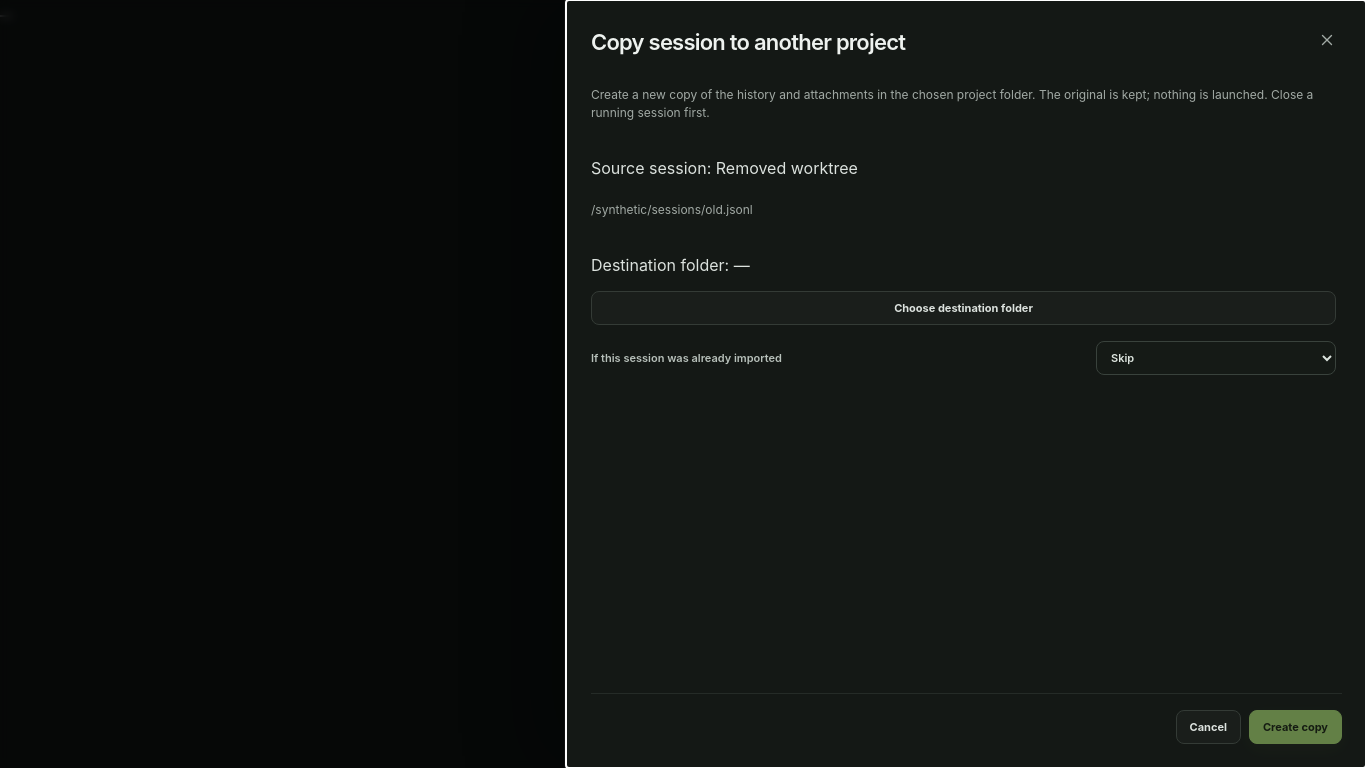
Scenario: Session copy confirmation › accepts explicit null warnings and extra fields without defaulting the snapshot
Click the button "Choose destination folder".
click(964, 308)  # box [591,291,1336,325]
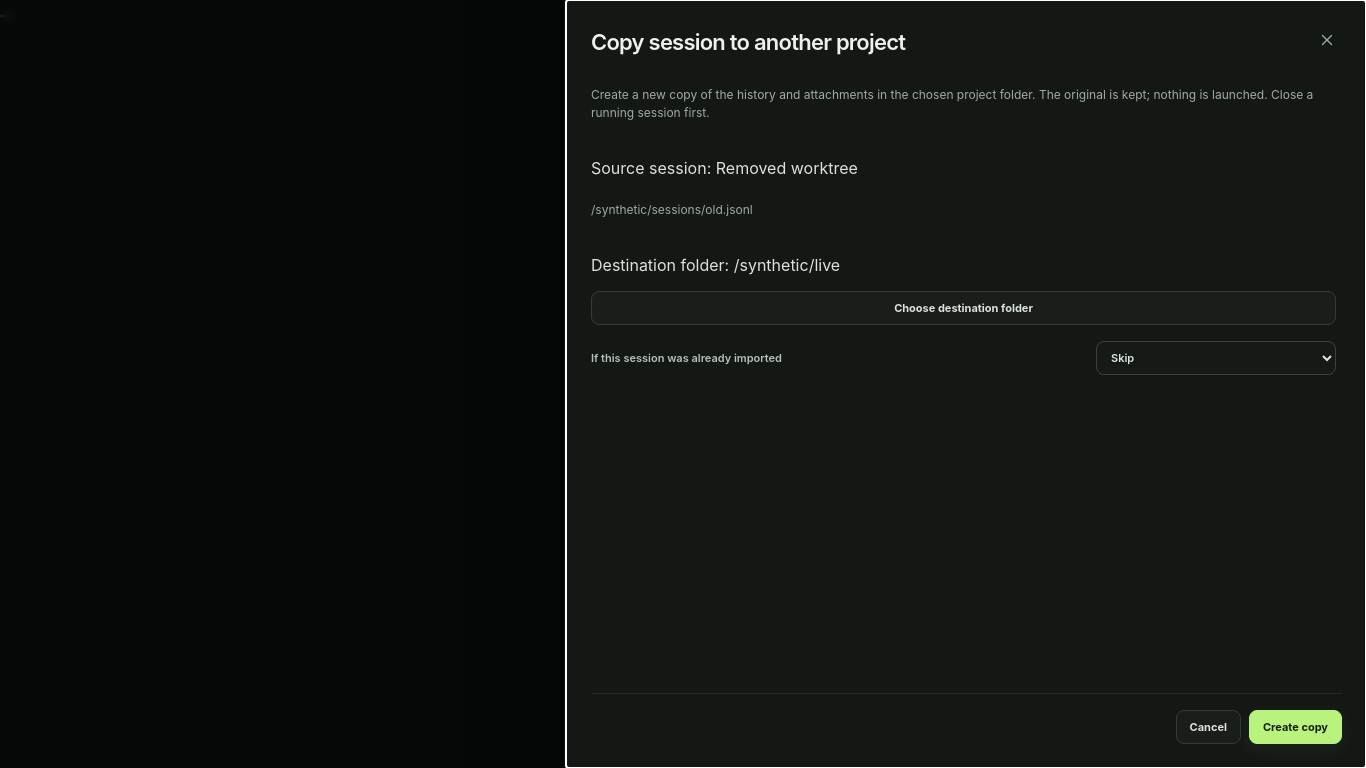
Click the button "Create copy".
click(1295, 727)  # box [1249,710,1342,744]
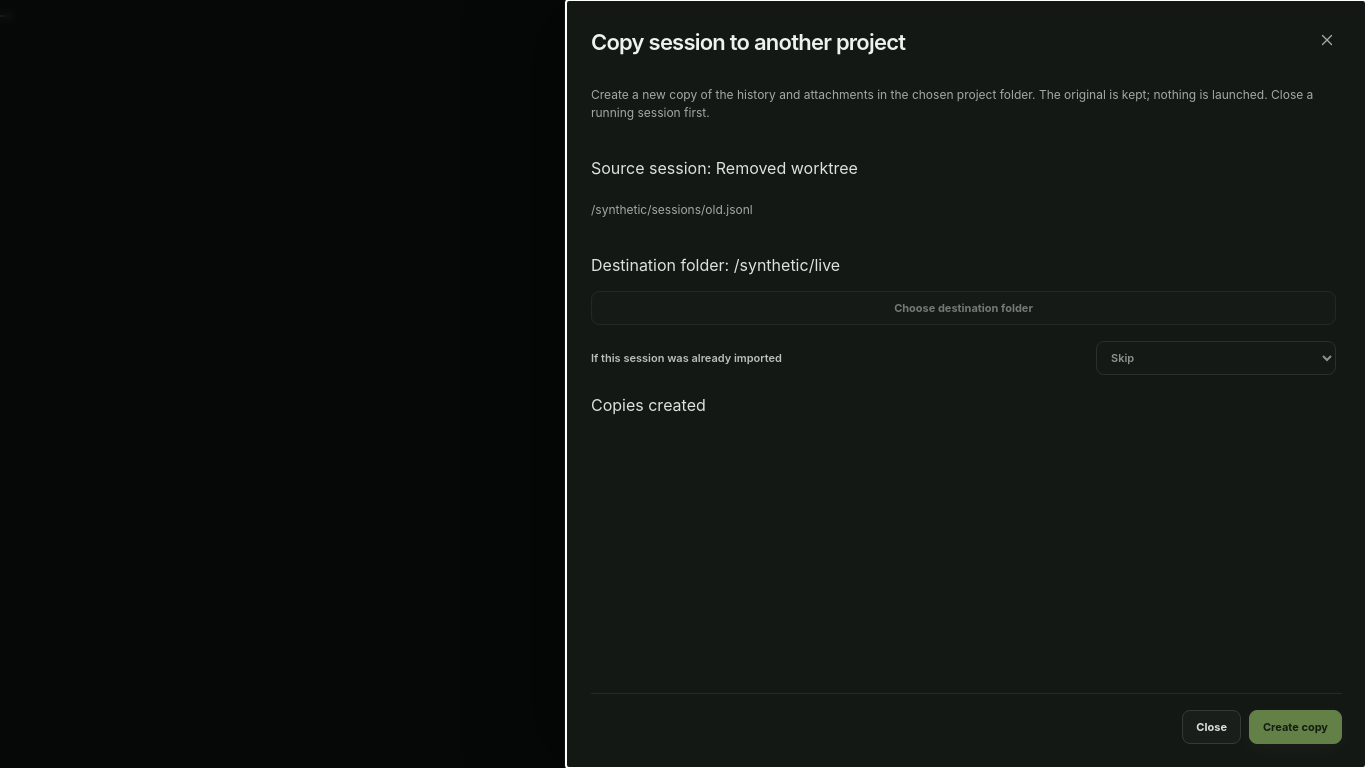
Now the message "Copies created" is shown, box [591,395,706,415]
